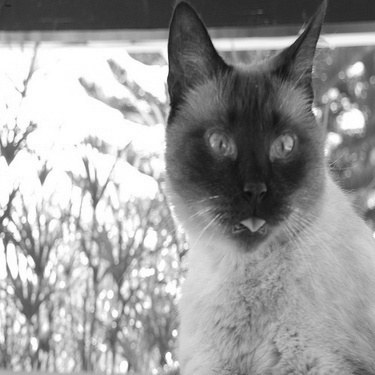cat: (162, 2, 369, 372)
